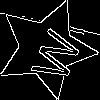W: (21, 23, 84, 85)
